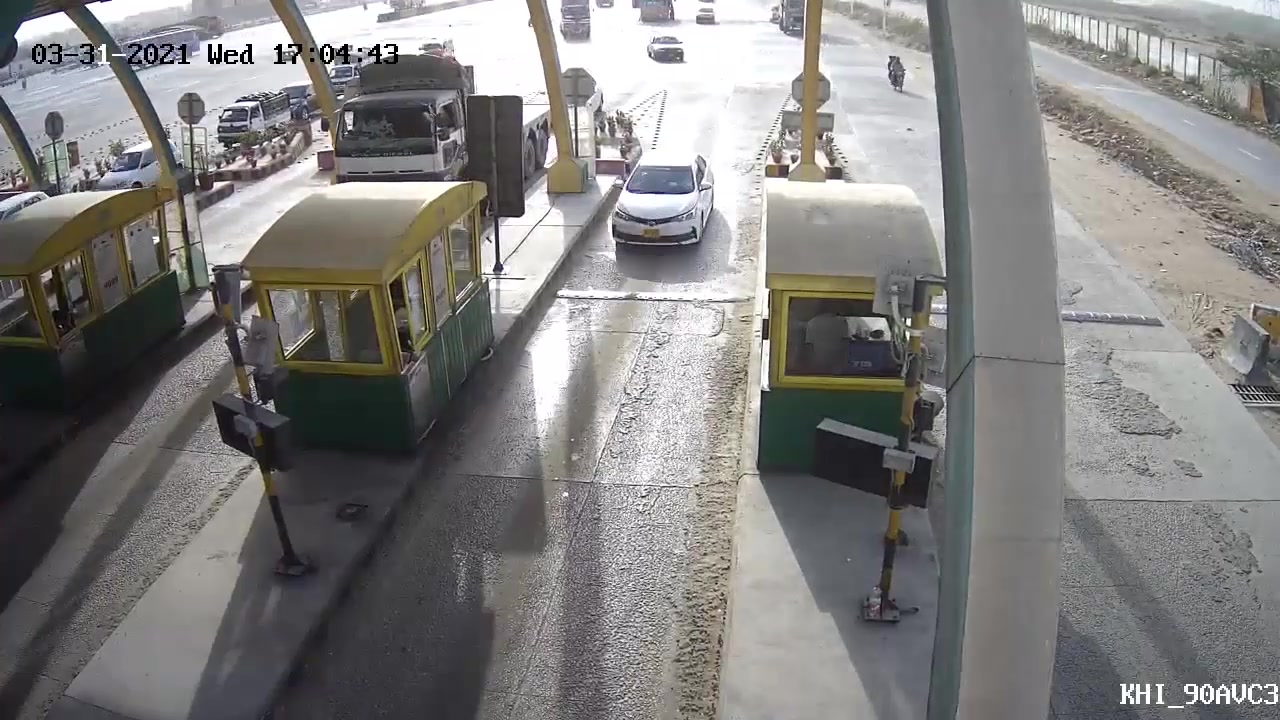F1: (605, 143, 718, 257)
